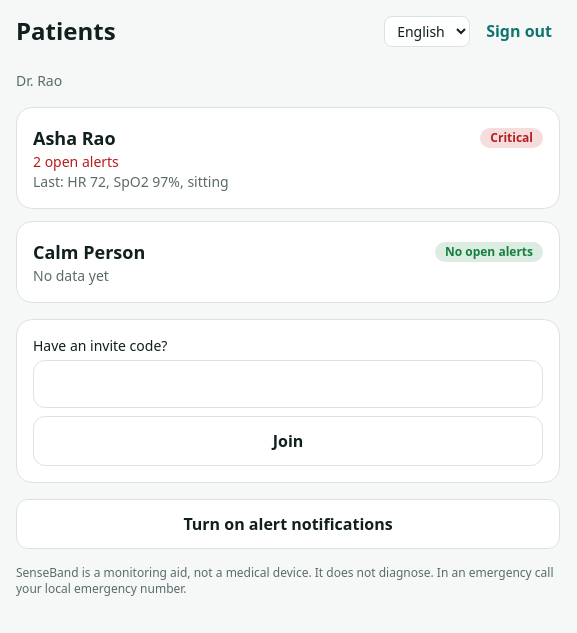
cloud screens › joining with an invite code validates the format and shows the cloud error
The image size is (577, 633).
Type "abc" into the field labelled "Have an invite code?". click: (288, 384)
box: [33, 360, 543, 408]
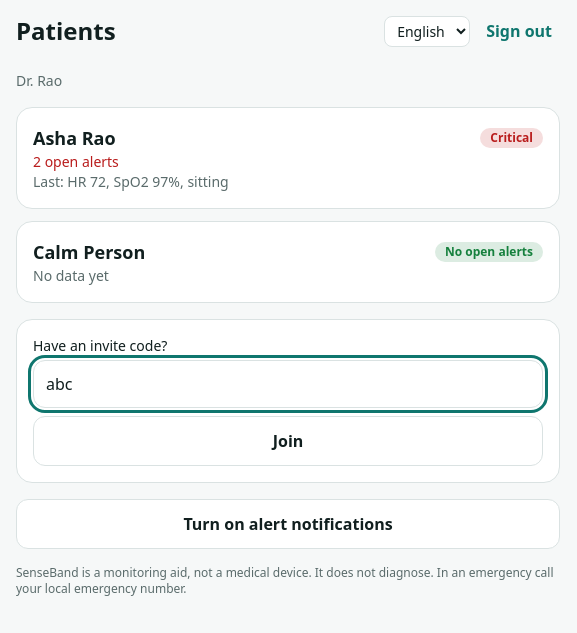
Click the button "Join". click: (288, 441)
box: [33, 416, 543, 466]
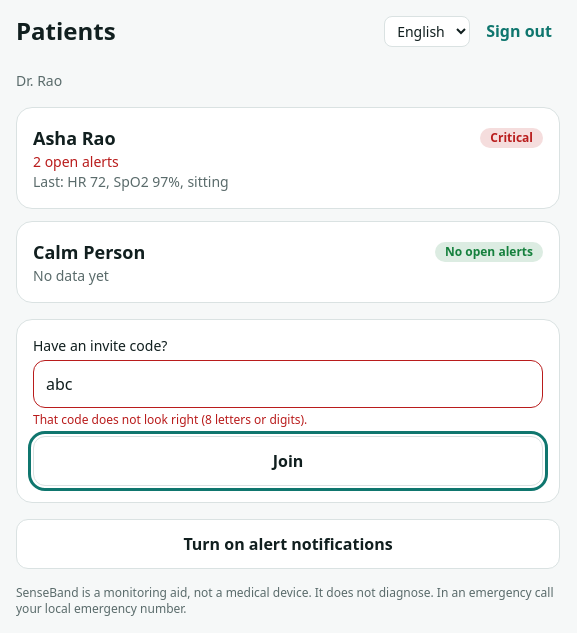
Now the text "That code does not look right (8 letters or digits)." is shown, box [33, 411, 307, 428]
Replace the text in the field labelled "Have an invite code?" with "BADCODE1". click: (288, 384)
box: [33, 360, 543, 408]
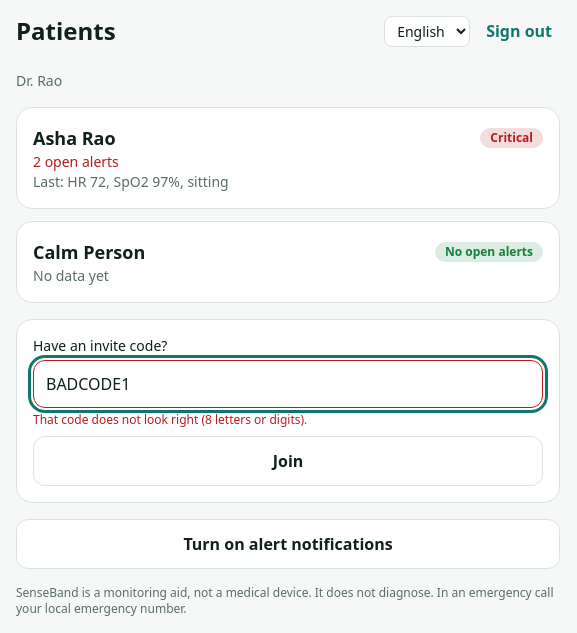
Click the button "Join". click: (288, 461)
box: [33, 436, 543, 486]
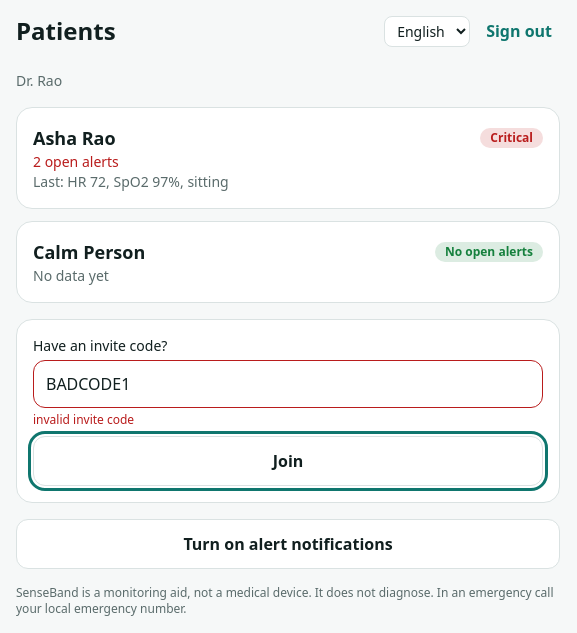
Now the text "invalid invite code" is shown, box [33, 411, 134, 428]
